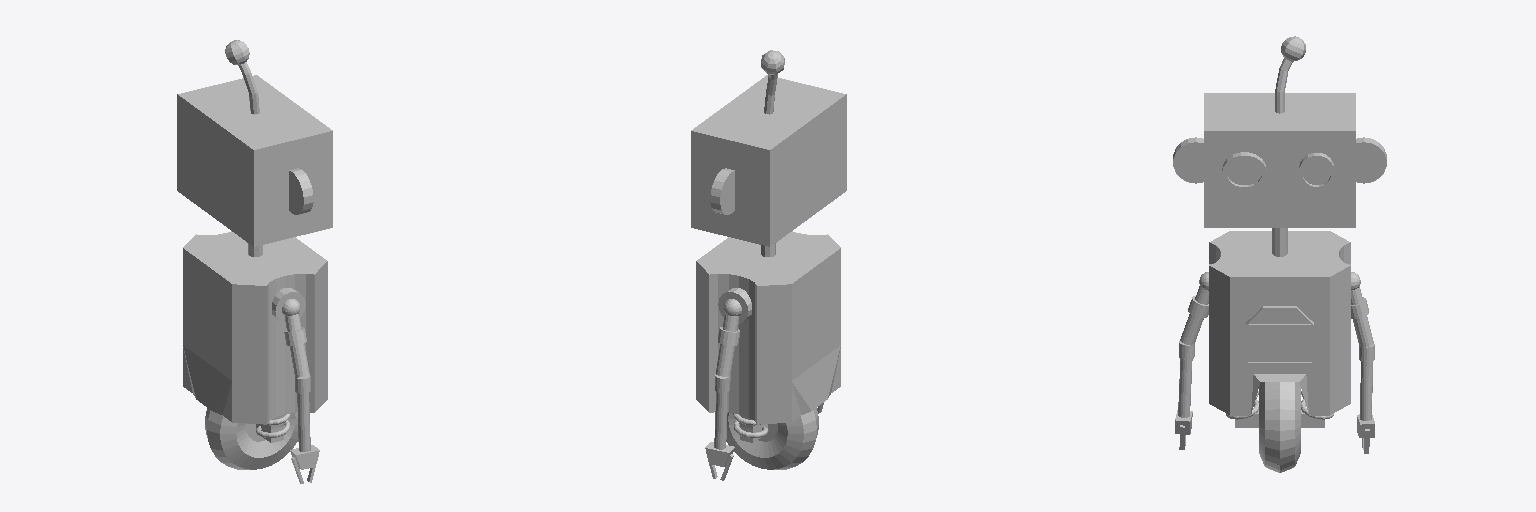
Rendered from RobienSimple.obj.
3 views of the same model, side by side, from view 1: azimuth 30°, elevation 25°; view 2: azimuth 150°, elevation 25°; view 3: azimuth 270°, elevation 25° (orthographic).
Parts seen in each view (by area): view 1: Robien_robien; view 2: Robien_robien; view 3: Robien_robien.
Boxes of the visible parts, box(x1,y1,x2,y2) form: Robien_robien: box(177, 40, 332, 483); Robien_robien: box(691, 50, 846, 480); Robien_robien: box(1173, 36, 1386, 472).
Bounding box in the file's own units: 1.56 × 6.14 × 2.79.